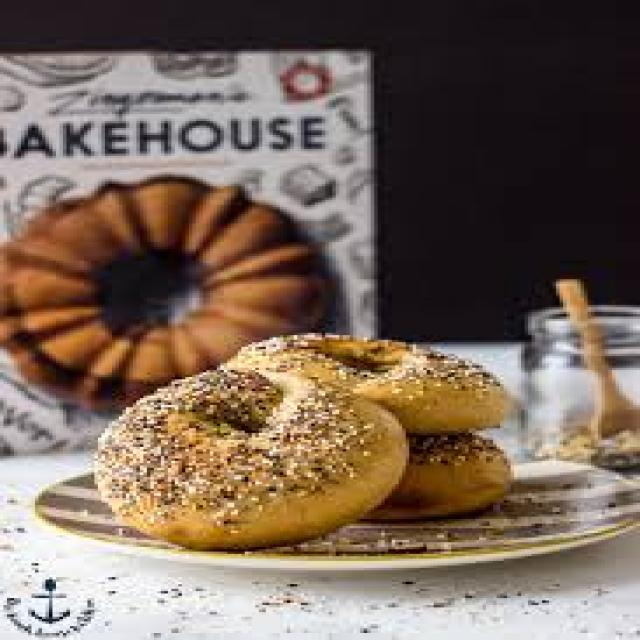Bagel: (94, 369, 408, 549), (229, 335, 503, 434)
